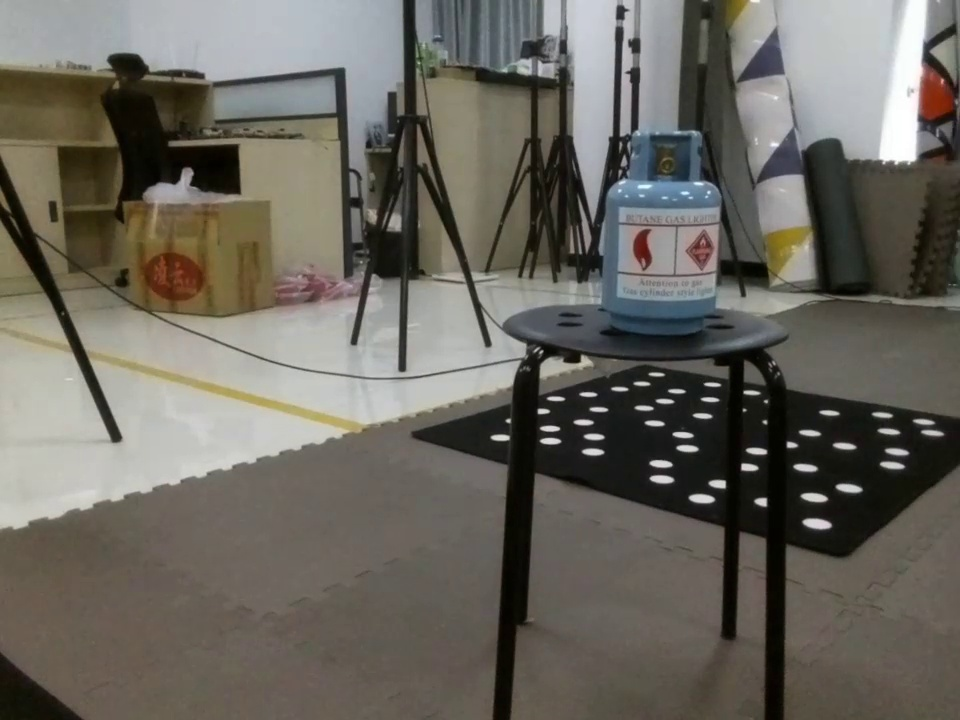gas tank: (592, 128, 738, 338)
